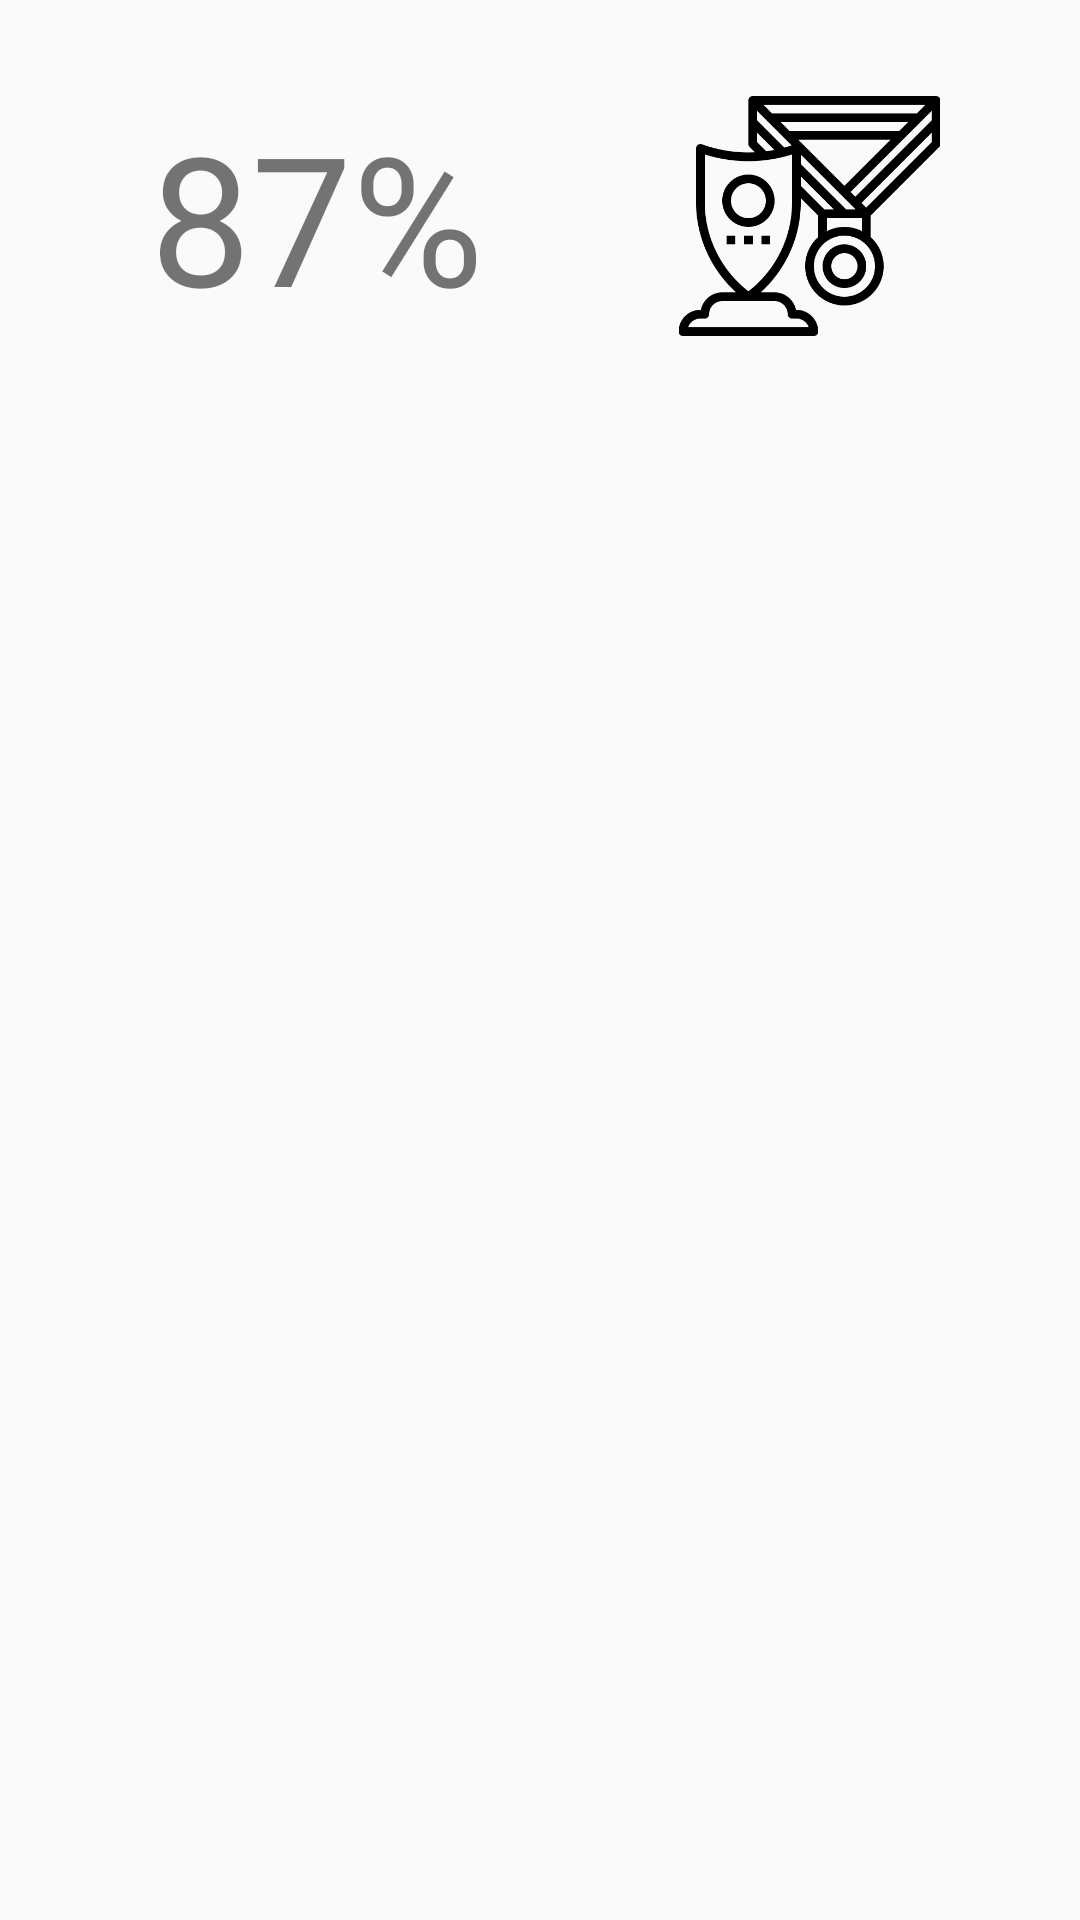

Locate icon controls on the screen. Image size 1080px×1920px, boxes as {"x1": x1, "y1": y1, "x2": x2, "y2": y2}.
place premium: {"x1": 679, "y1": 96, "x2": 940, "y2": 336}
